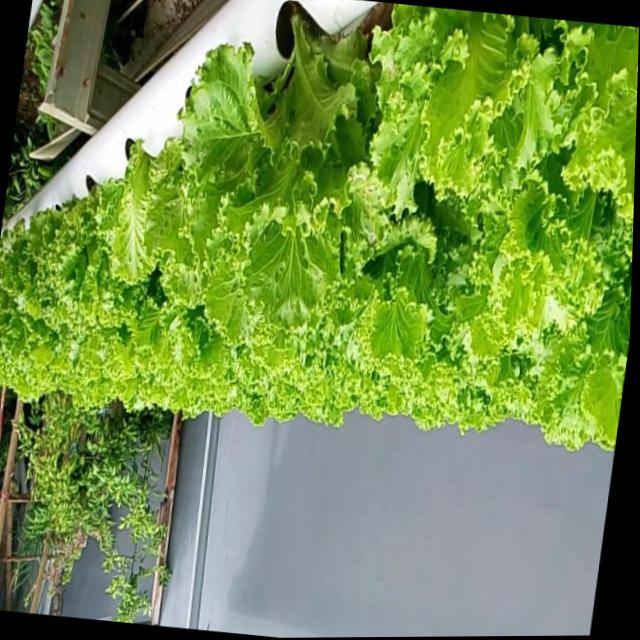Mature: (0, 1, 639, 449), (162, 0, 395, 330), (35, 169, 147, 330)
